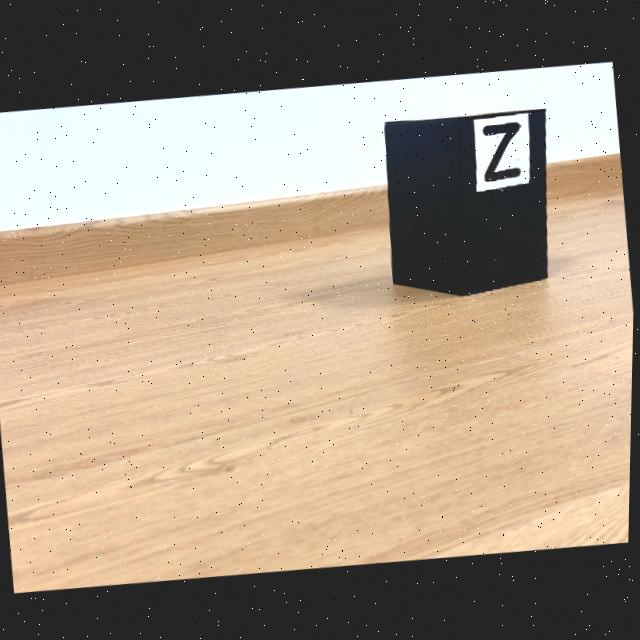Z: (484, 120, 522, 180)
